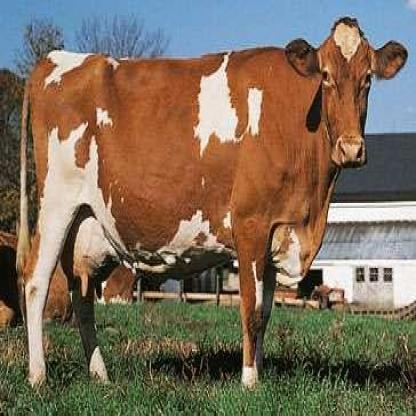cow: (19, 17, 408, 394)
